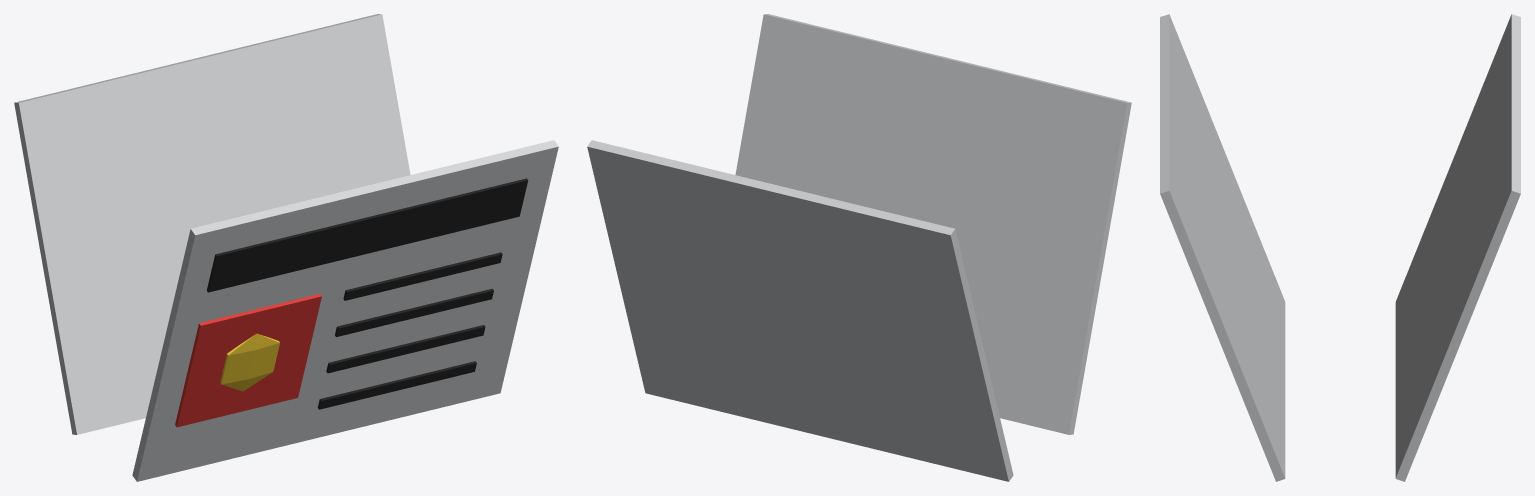
Rendered from tidning.glb.
The picture shows the model from 3 angles, left to right: view 1: azimuth 30°, elevation 25°; view 2: azimuth 150°, elevation 25°; view 3: azimuth 270°, elevation 25°; orthographic projection.
Visible parts, largest first — view 1: tidning; view 2: tidning; view 3: tidning.
Boxes of the visible parts, bbox=[...] form: tidning: bbox=[14, 14, 558, 481]; tidning: bbox=[587, 14, 1131, 481]; tidning: bbox=[1160, 14, 1520, 481].
Bounding box in the file's own units: 0.42 × 0.3228 × 0.3626.
